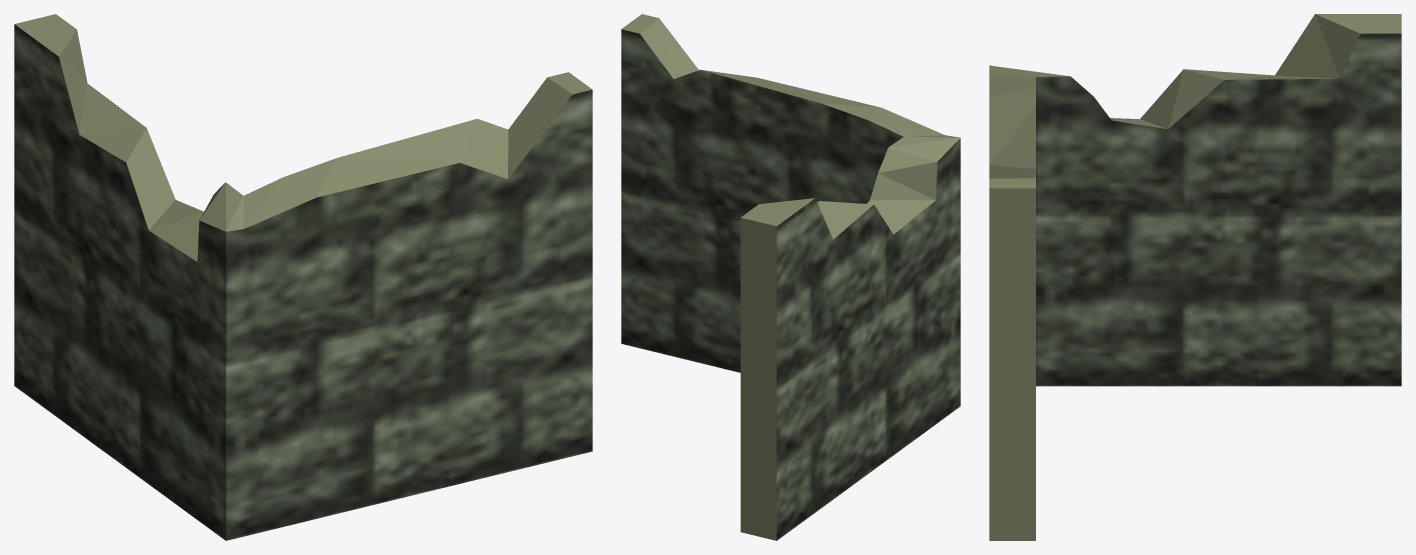
File: ruins_grid_19_1.glb
3 views of the same model, side by side, from view 1: azimuth 30°, elevation 25°; view 2: azimuth 150°, elevation 25°; view 3: azimuth 270°, elevation 25° (orthographic). The views are drawn at different scales.
Parts seen in each view (by area): view 1: ruins_grid_19_1; view 2: ruins_grid_19_1; view 3: ruins_grid_19_1.
Part boxes in pixels (<box>): ruins_grid_19_1: <box>14,14,592,540</box>; ruins_grid_19_1: <box>621,14,960,540</box>; ruins_grid_19_1: <box>989,14,1401,540</box>.
Size of the model in its own units: 2.12 by 2 by 2.12.
2 materials, 1 textured.
